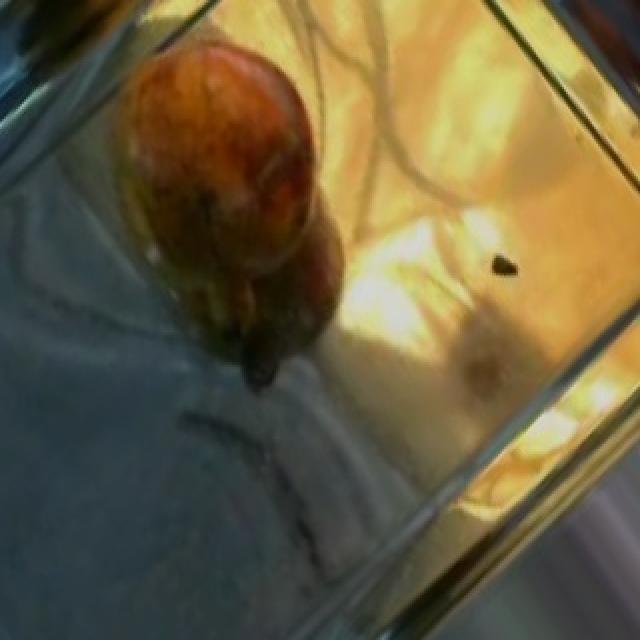fruit: (104, 2, 346, 280)
